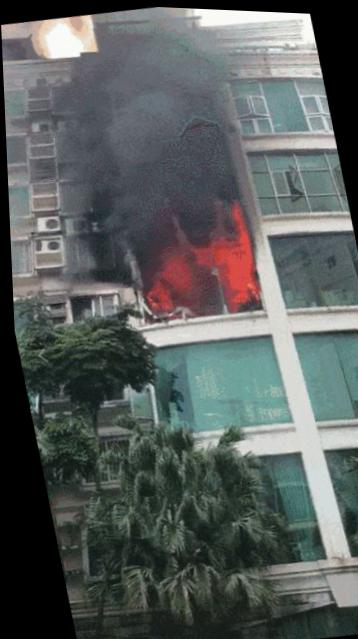fire: (201, 198, 261, 311), (164, 238, 218, 297)
